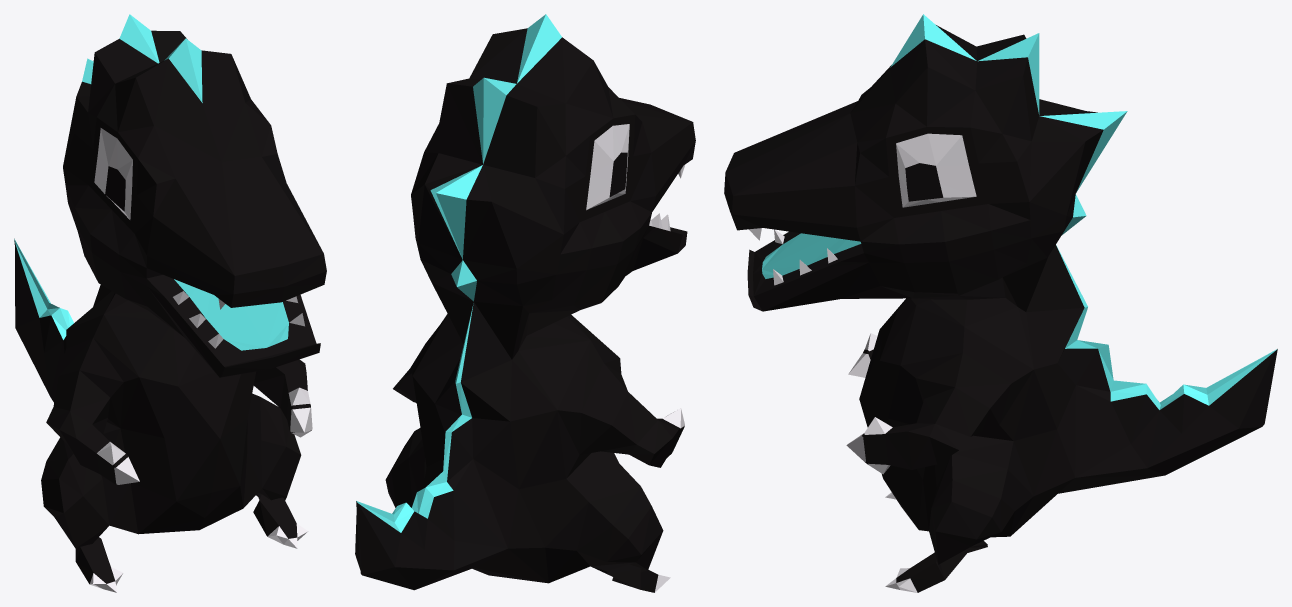
Rendered from zilla_000018.obj.
The picture shows the model from 3 angles, left to right: view 1: azimuth 30°, elevation 25°; view 2: azimuth 150°, elevation 25°; view 3: azimuth 270°, elevation 25°; orthographic projection. The views are drawn at different scales.
Parts seen in each view (by area): view 1: Body_Cube; view 2: Body_Cube; view 3: Body_Cube.
Part boxes in pixels (left/top/right/bottom): Body_Cube: left=14, top=14, right=326, bottom=592; Body_Cube: left=355, top=14, right=695, bottom=592; Body_Cube: left=724, top=14, right=1277, bottom=592.
Bounding box in the file's own units: 2.02 × 4.05 × 3.85.
1 material, 1 textured.
